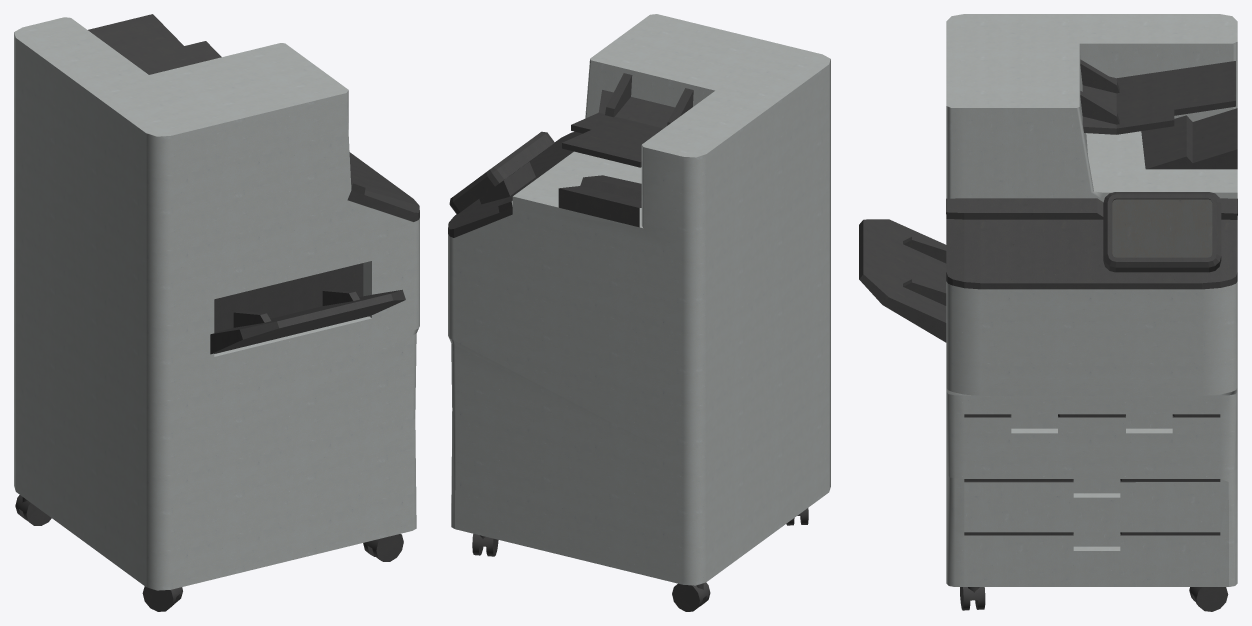
File: SM_printer_a_medium.fbx
3 views of the same model, side by side, from view 1: azimuth 30°, elevation 25°; view 2: azimuth 150°, elevation 25°; view 3: azimuth 270°, elevation 25° (orthographic). The views are drawn at different scales.
Visible parts, largest first — view 1: polySurface604, polySurface605; view 2: polySurface604, polySurface605; view 3: polySurface604, polySurface605, polySurface602.
Part boxes in pixels (x1=…): polySurface604: x1=14, y1=17, x2=419, y2=590; polySurface605: x1=15, y1=14, x2=419, y2=611; polySurface604: x1=448, y1=14, x2=830, y2=585; polySurface605: x1=448, y1=73, x2=808, y2=611; polySurface604: x1=946, y1=14, x2=1237, y2=586; polySurface605: x1=859, y1=59, x2=1237, y2=611; polySurface602: x1=1112, y1=199, x2=1212, y2=257.
Bounding box in the file's own units: 0.821 × 1.38 × 0.9929.
